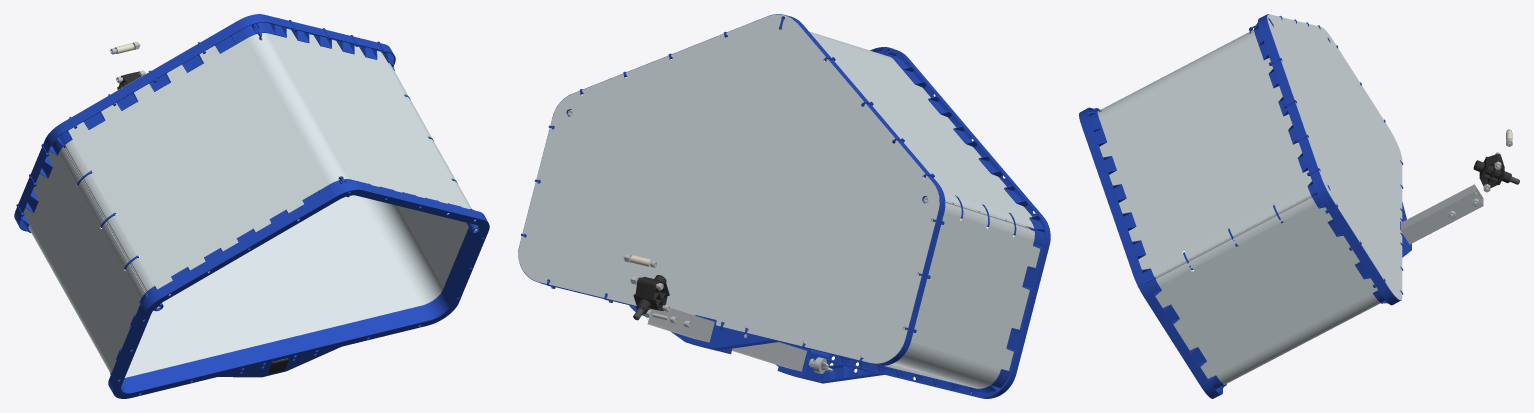
Rendered from cell-blue-audience.glb.
3 renders of one model, left to right at view 1: azimuth 30°, elevation 25°; view 2: azimuth 150°, elevation 25°; view 3: azimuth 270°, elevation 25°, orthographic. The views are drawn at different scales.
Parts seen in each view (by area): view 1: hive-blue pivot-local visual; view 2: hive-blue pivot-local visual; view 3: hive-blue pivot-local visual.
Boxes of the visible parts, x1,y1,x2,y2 form: hive-blue pivot-local visual: (14,14,489,398); hive-blue pivot-local visual: (518,14,1050,398); hive-blue pivot-local visual: (1079,14,1519,398).
Size of the model in its own units: 0.5382 by 0.506 by 0.6202.
